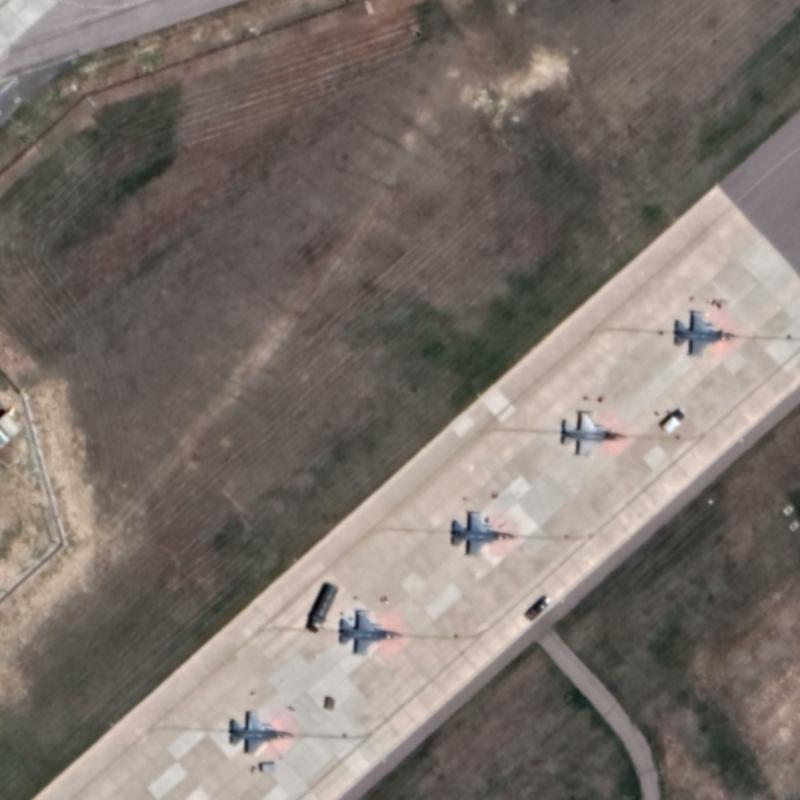A5: (555, 403, 625, 463), (445, 504, 516, 560), (335, 604, 406, 658), (669, 302, 737, 358), (228, 706, 294, 756)
